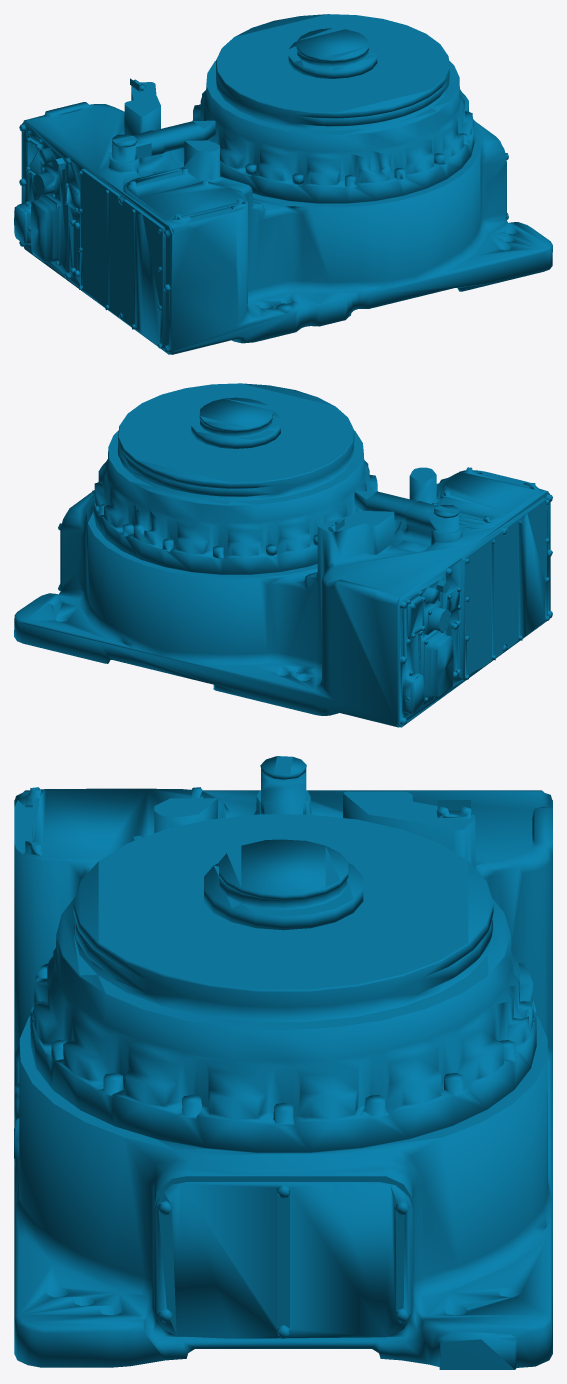
3 views of the same model, one above another, from view 1: azimuth 30°, elevation 25°; view 2: azimuth 150°, elevation 25°; view 3: azimuth 270°, elevation 25° (orthographic). The views are drawn at different scales.
Visible parts, largest first — view 1: base_link; view 2: base_link; view 3: base_link.
Part boxes in pixels (<box>): base_link: <box>14,14,552,354</box>; base_link: <box>14,383,552,727</box>; base_link: <box>14,756,552,1369</box>.
Size of the model in its own units: 0.7765 by 0.5005 by 0.3784.
